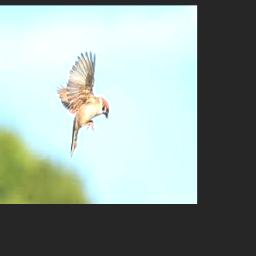Sparrow: (56, 51, 110, 157)
